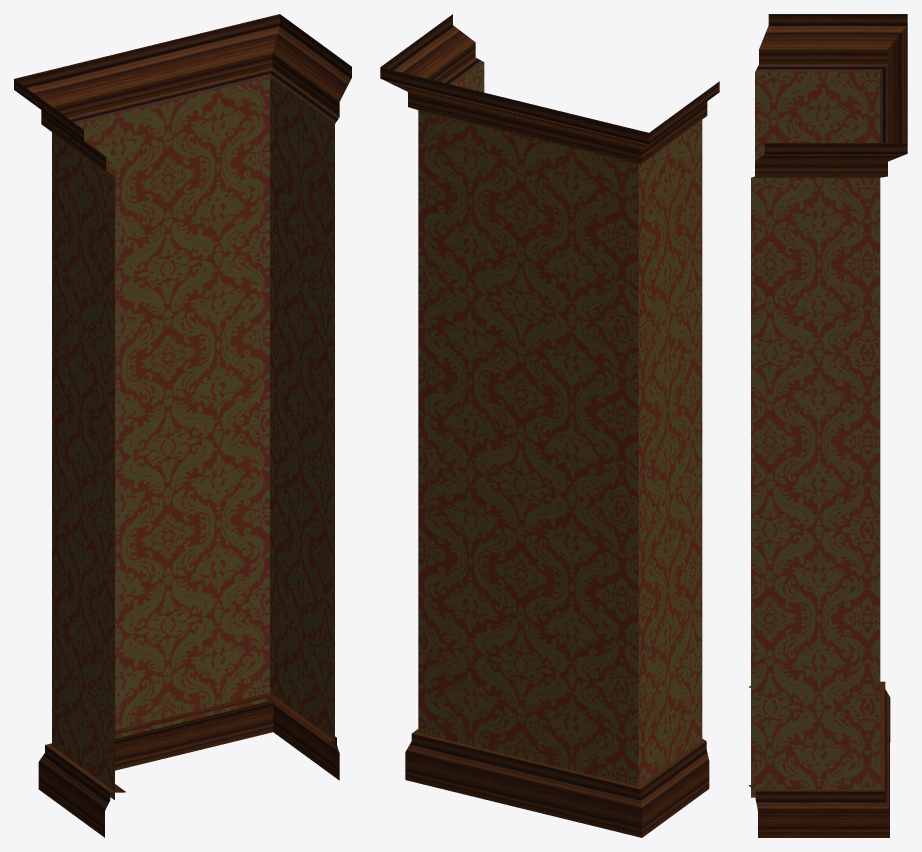
Rendered from WallPlain_Outcrop.fbx.
3 renders of one model, left to right at view 1: azimuth 30°, elevation 25°; view 2: azimuth 150°, elevation 25°; view 3: azimuth 270°, elevation 25°, orthographic.
Parts seen in each view (by area): view 1: Wall_DoorV2.005; view 2: Wall_DoorV2.005; view 3: Wall_DoorV2.005.
Boxes of the visible parts, x1,y1,x2,y2 form: Wall_DoorV2.005: [14, 14, 351, 837]; Wall_DoorV2.005: [380, 14, 719, 837]; Wall_DoorV2.005: [748, 14, 907, 837].
Bounding box in the file's own units: 111 × 281 × 57.87.
